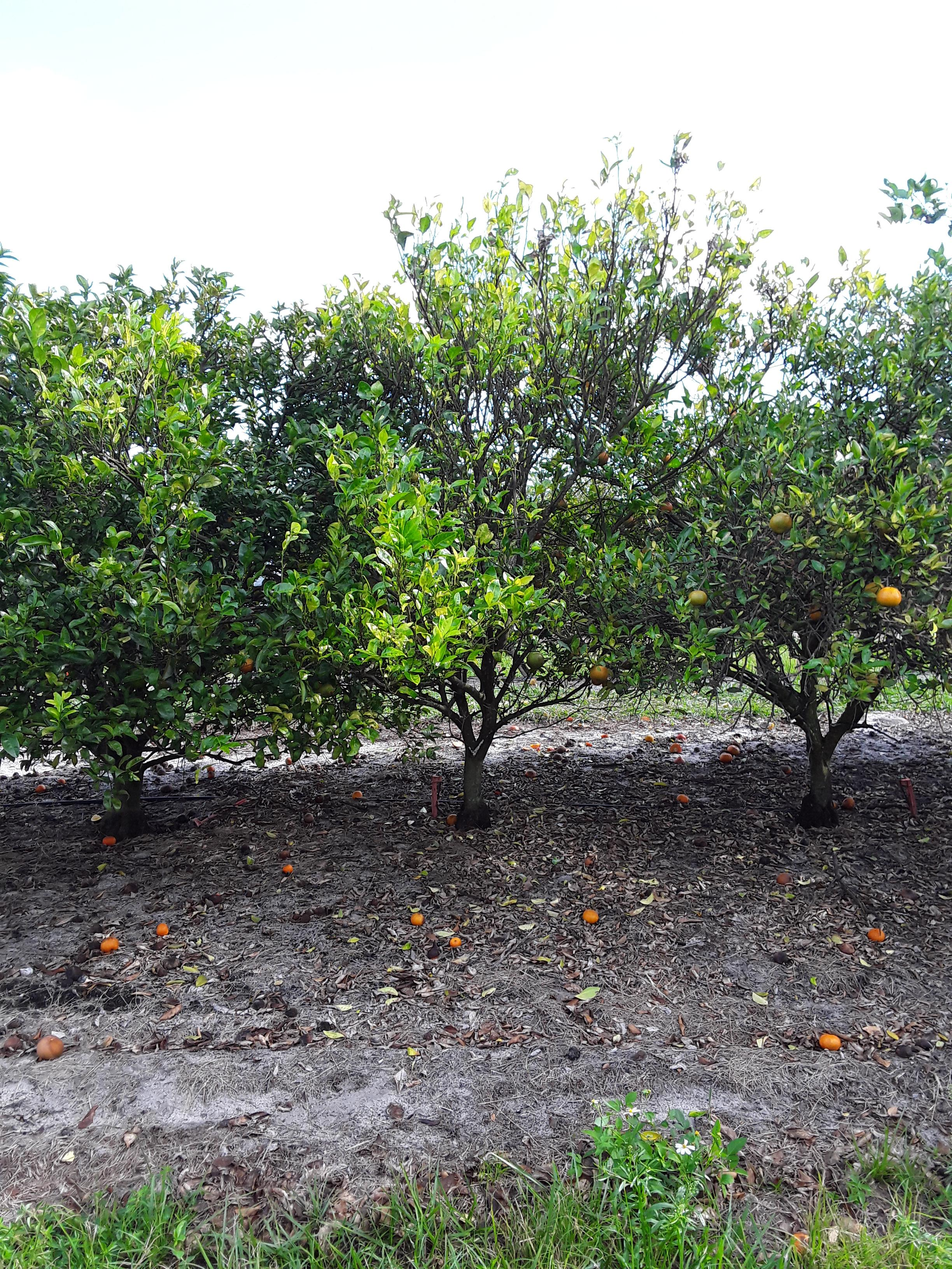fruit_on_ground: (874, 584, 904, 609), (767, 510, 794, 536), (587, 661, 611, 684), (862, 581, 886, 603), (524, 648, 546, 670), (236, 654, 257, 676), (805, 602, 826, 623), (687, 587, 709, 607), (317, 680, 338, 698), (593, 448, 611, 467), (551, 494, 570, 511), (658, 498, 675, 515), (526, 527, 544, 542), (560, 662, 575, 676)
fruit_on_tree: (34, 1033, 65, 1063), (787, 1227, 814, 1256), (818, 1030, 843, 1052), (2, 1032, 24, 1052), (99, 934, 121, 954), (866, 925, 886, 944), (581, 907, 600, 925), (771, 948, 790, 965), (775, 869, 793, 886), (837, 939, 856, 955), (841, 794, 857, 811), (693, 835, 712, 849), (154, 921, 170, 937), (409, 910, 425, 926), (101, 833, 118, 848), (448, 934, 462, 949), (444, 811, 458, 826), (302, 811, 316, 825), (281, 862, 295, 876), (668, 741, 683, 754), (718, 750, 733, 763), (159, 783, 175, 795), (427, 947, 441, 960), (209, 891, 223, 904), (832, 796, 846, 809), (676, 792, 690, 805), (671, 734, 685, 746), (672, 754, 686, 766), (727, 743, 741, 755), (350, 789, 364, 801), (90, 812, 103, 824), (524, 767, 536, 779), (278, 848, 290, 860), (313, 793, 326, 804), (781, 764, 794, 775), (283, 755, 295, 766), (644, 732, 656, 743), (639, 713, 652, 723), (506, 724, 519, 734), (527, 676, 538, 687), (529, 742, 541, 752), (34, 783, 46, 793), (56, 776, 67, 786), (206, 770, 216, 780), (584, 740, 595, 749), (205, 764, 216, 773), (185, 776, 195, 784), (156, 765, 165, 773), (157, 769, 167, 776)
